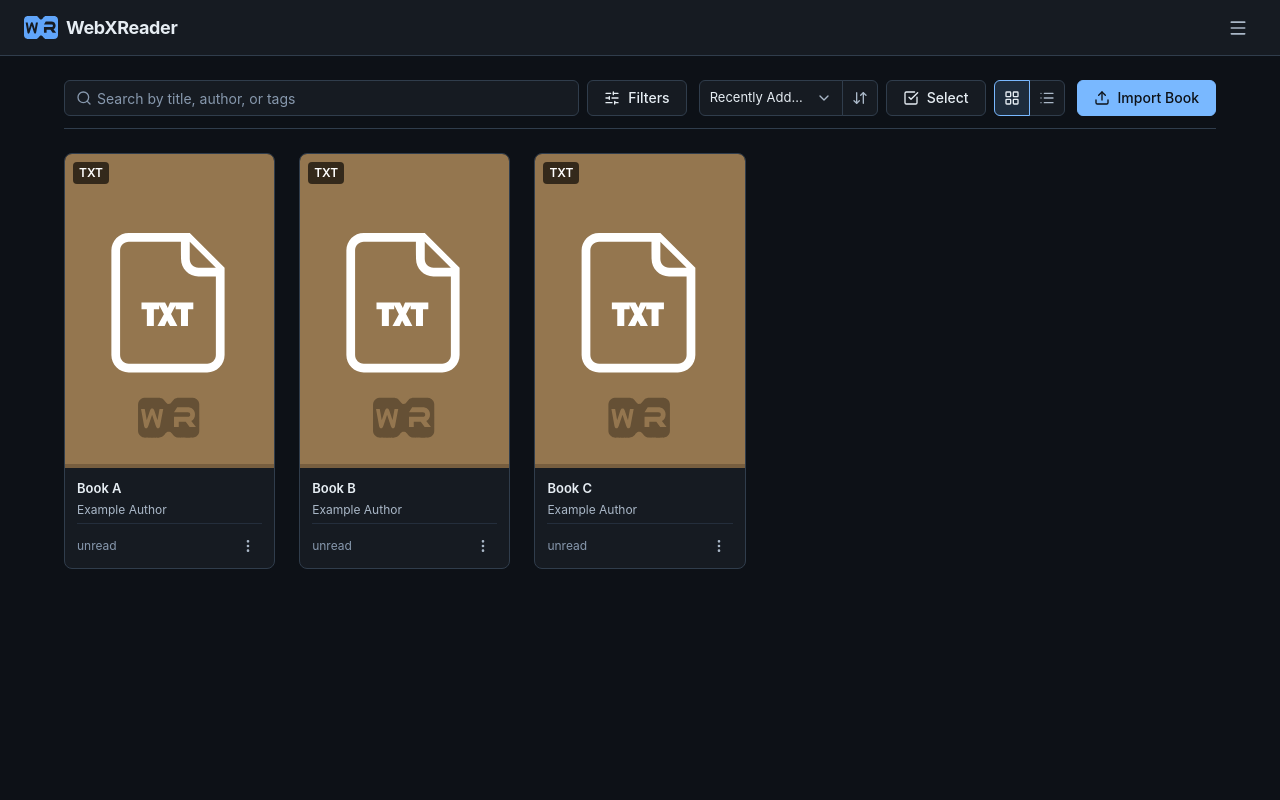
Test: Series › appends a bulk selection in click order with numbered order false
Expected: the button named "Actions for Book A" is shown, [234,532,262,560]
Click the button "Select": [936, 98] box [886,80,986,116]
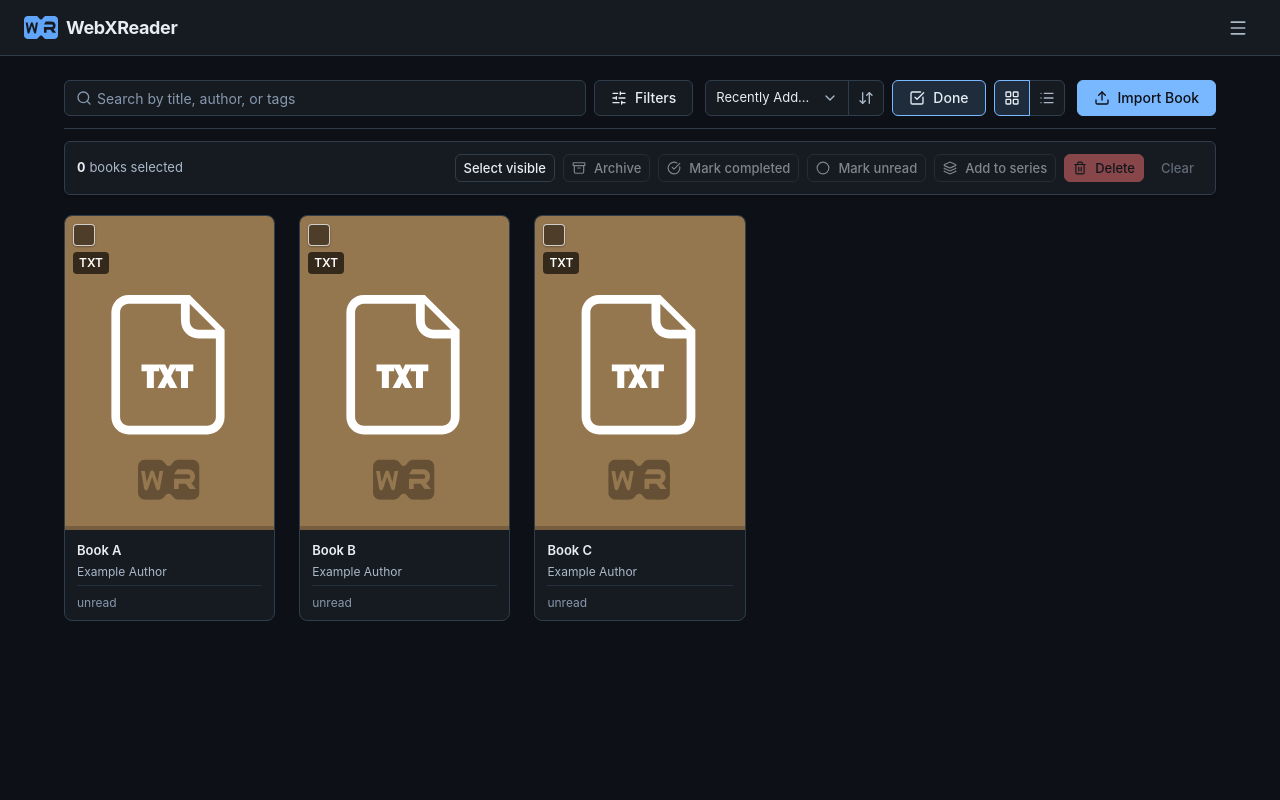
Click the checkbox named "Book C by": [640, 418] box [534,215,746,621]
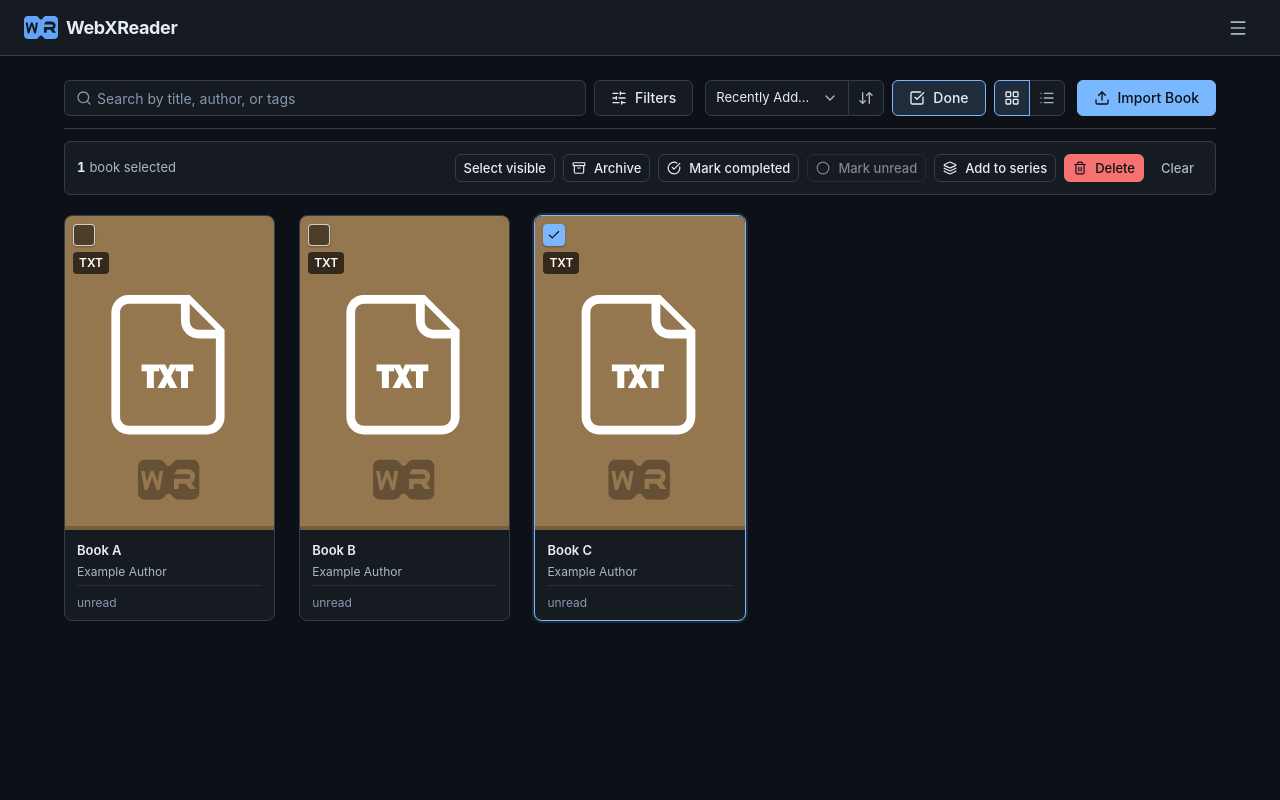
Click the checkbox named "Book A by": [170, 418] box [64,215,275,621]
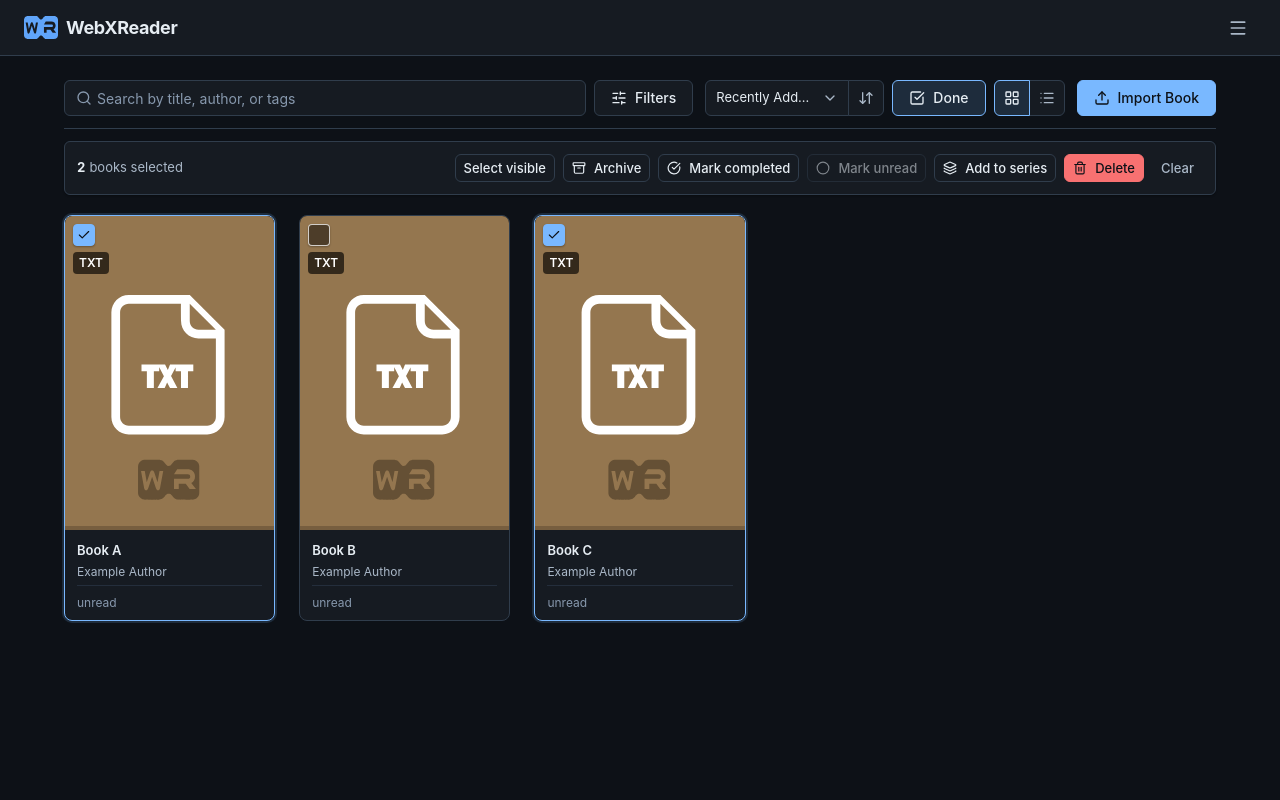
Click the button "Add to series": [995, 168] box [934,154,1056,182]
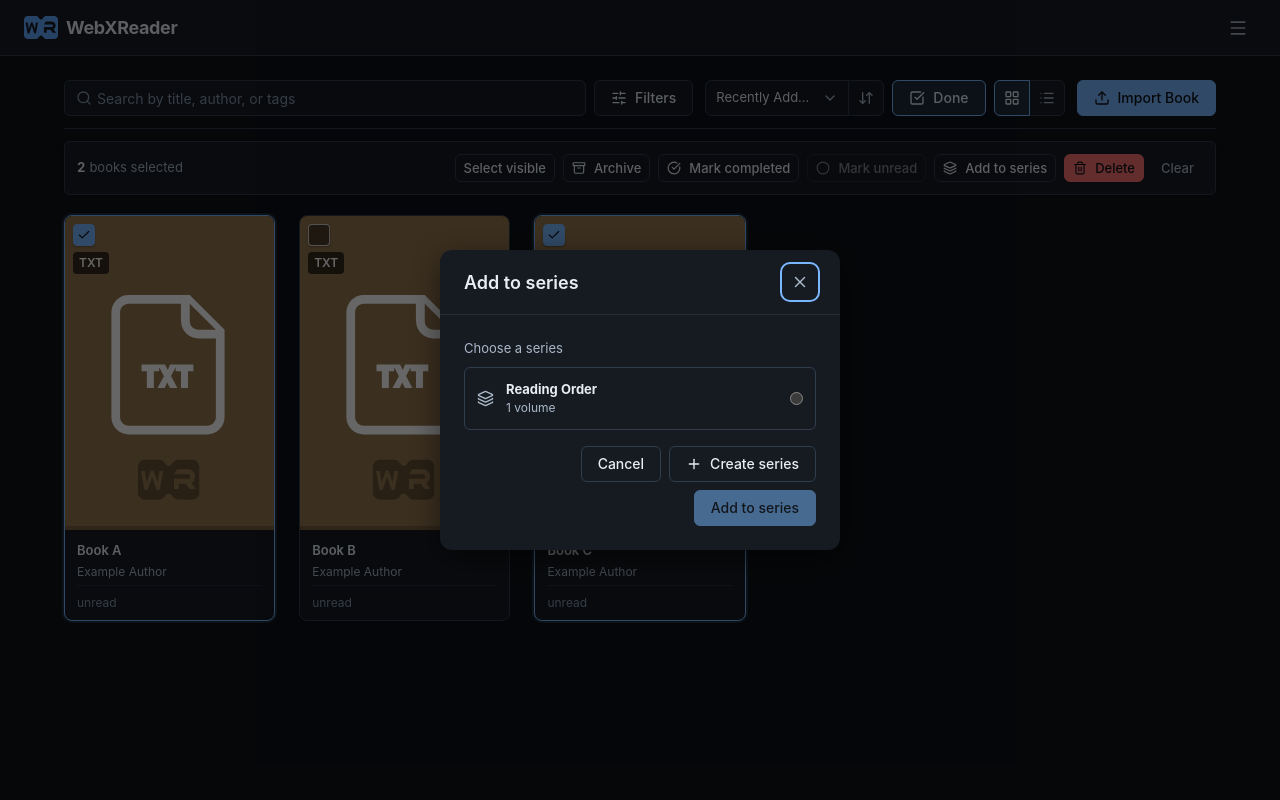
Click the radio button labelled "Reading Order 1 volume": [796, 398] box [790,392,803,405]
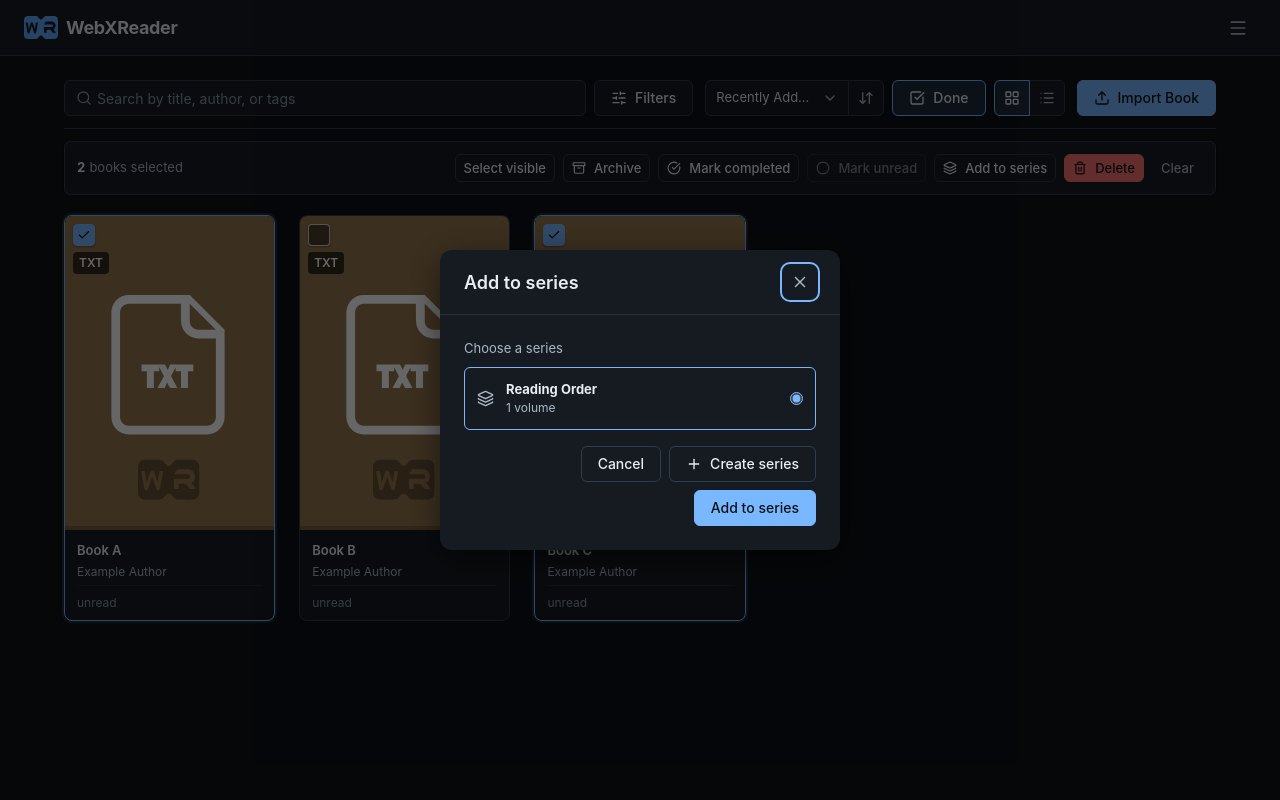
Click the button "Add to series": [755, 508] box [694,490,816,526]
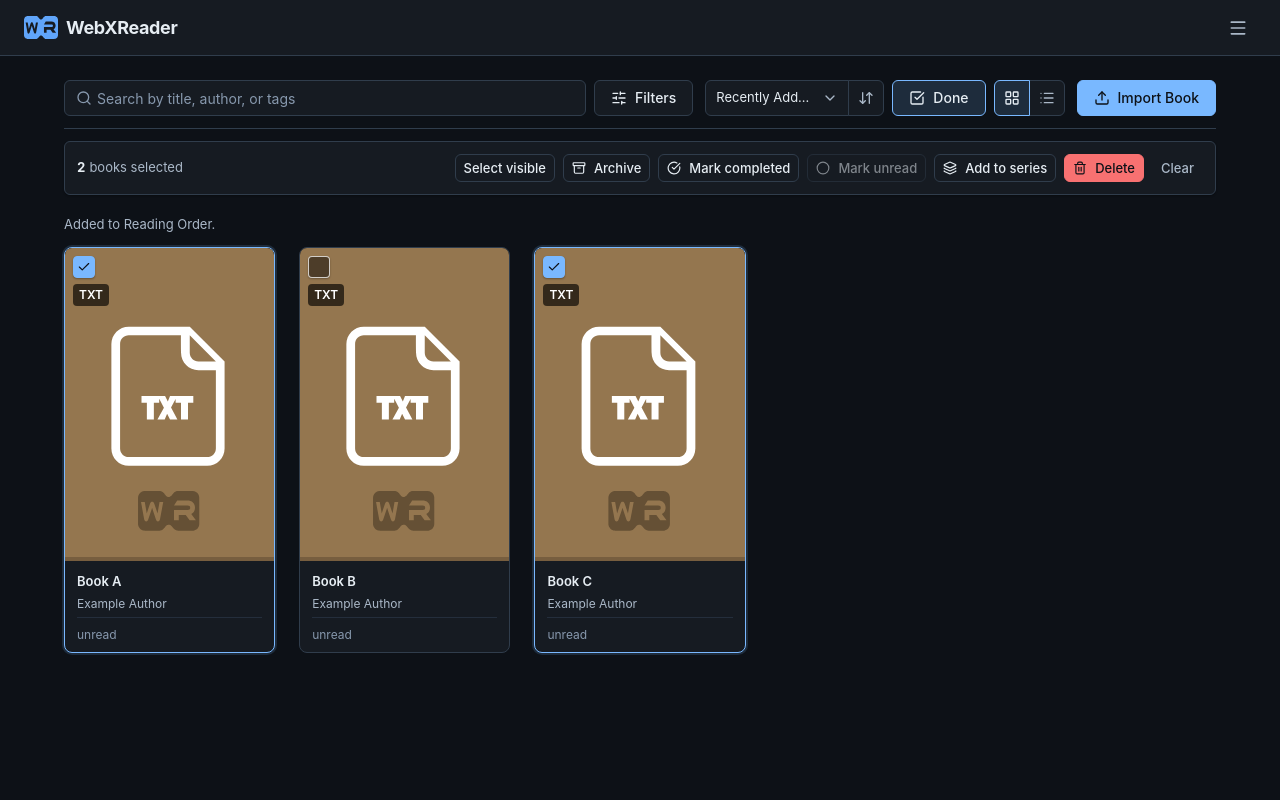
Now the text "Added to Reading Order." is shown, box [64,216,215,232]
